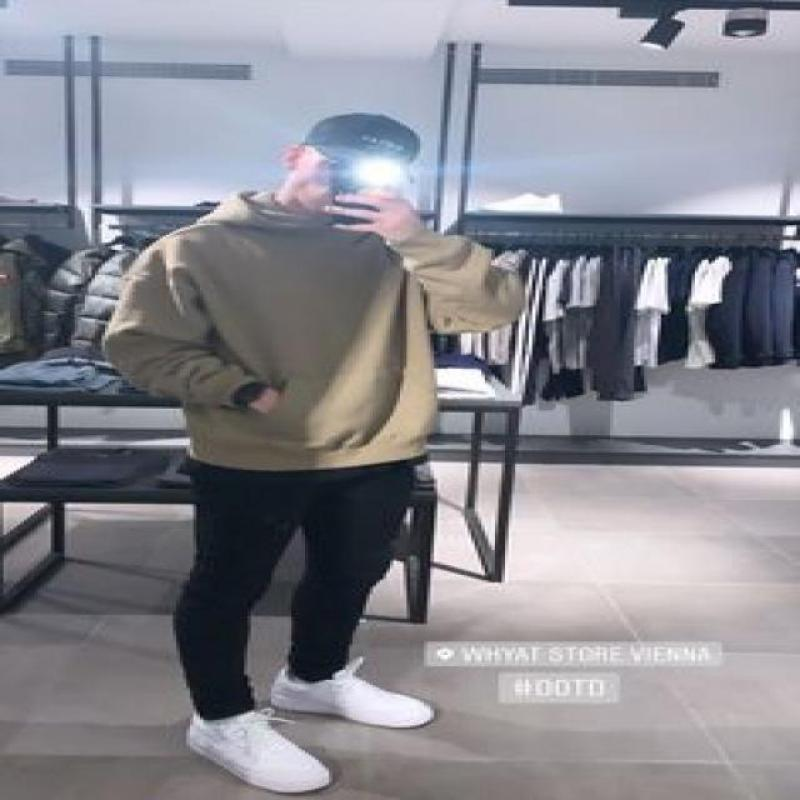sweater: (101, 186, 528, 471)
trousers: (170, 449, 423, 721)
